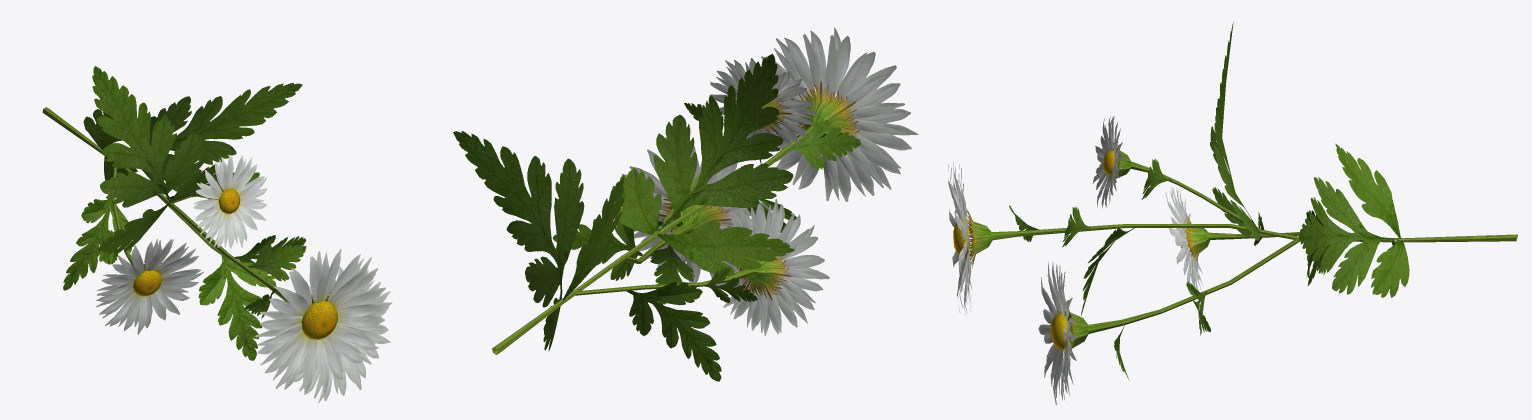
The model's file is marigold 1.obj.
3 views of the same model, side by side, from view 1: azimuth 30°, elevation 25°; view 2: azimuth 150°, elevation 25°; view 3: azimuth 270°, elevation 25° (orthographic). The views are drawn at different scales.
Parts seen in each view (by area): view 1: plant; view 2: plant; view 3: plant.
Part boxes in pixels (left/top/right/bottom): plant: left=42, top=66, right=392, bottom=403; plant: left=453, top=27, right=918, bottom=381; plant: left=948, top=21, right=1517, bottom=405.
Size of the model in its own units: 34.64 by 31.41 by 49.6.
Materials: 4 (4 with a texture image).
